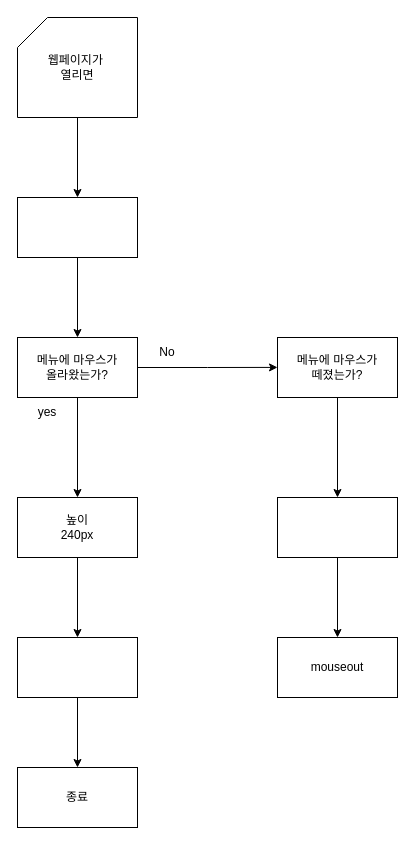
This 415x845 diagram has some shape labels left out. Here are the shapes that lost their labels. From the top down, the centre of each, then its label:
At [77,227]: "메뉴에 스타일을 적용".
At [337,527]: "높이 40px".
At [77,667]: "mouseover".
